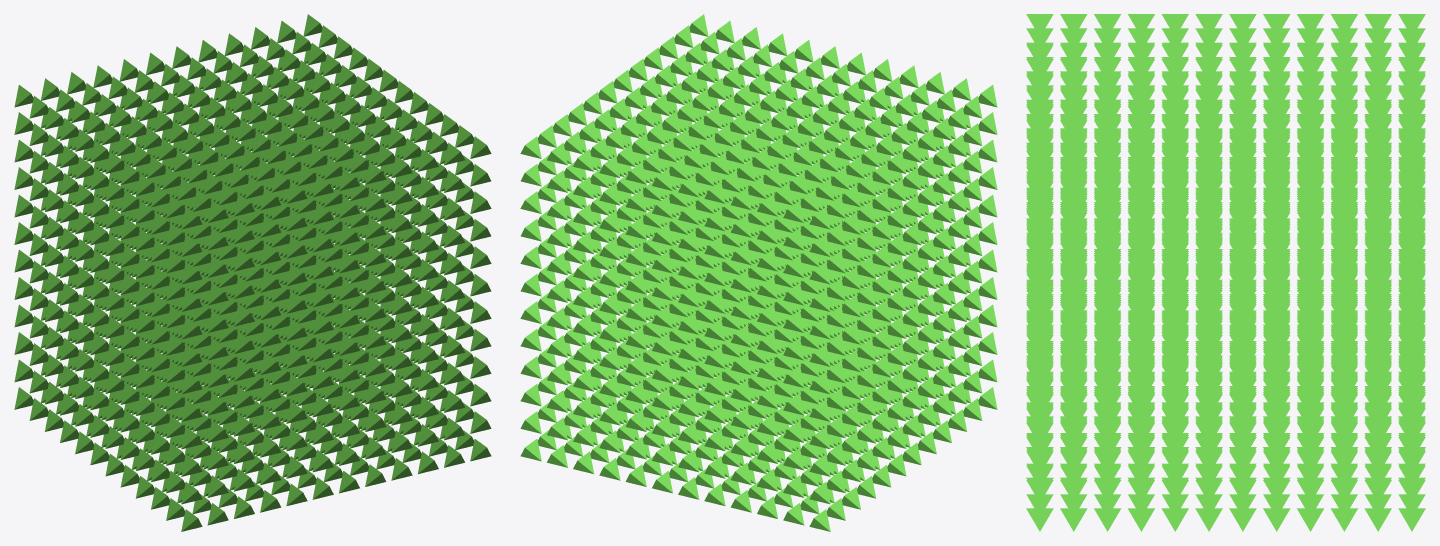
File: test-clone.glb
The picture shows the model from 3 angles, left to right: view 1: azimuth 30°, elevation 25°; view 2: azimuth 150°, elevation 25°; view 3: azimuth 270°, elevation 25°; orthographic projection. The views are drawn at different scales.
Bounding box in the file's own units: 23.63 × 23.15 × 23.63.
